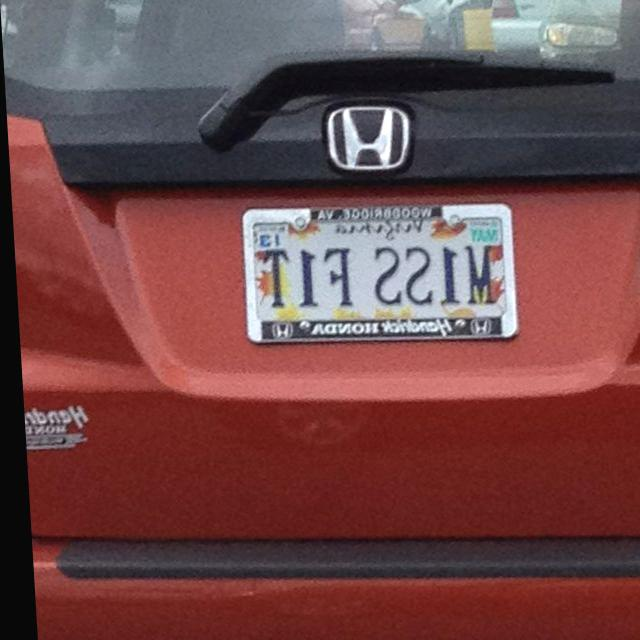License_Plate: (226, 196, 522, 361)
